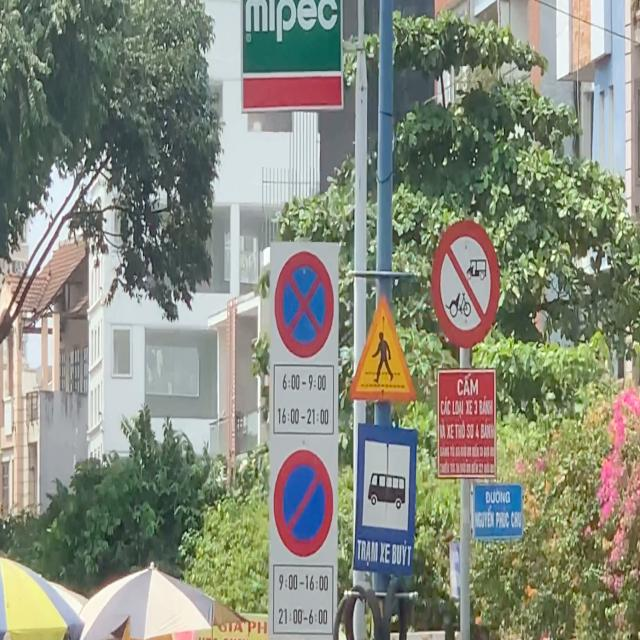Ben xe buyt: (352, 417, 417, 580)
Cam con lai: (430, 218, 501, 350)
Cam do: (268, 441, 340, 559)
Cam dung va do: (272, 247, 337, 363)
Nguoi di bo cat ngang: (345, 290, 420, 405)
